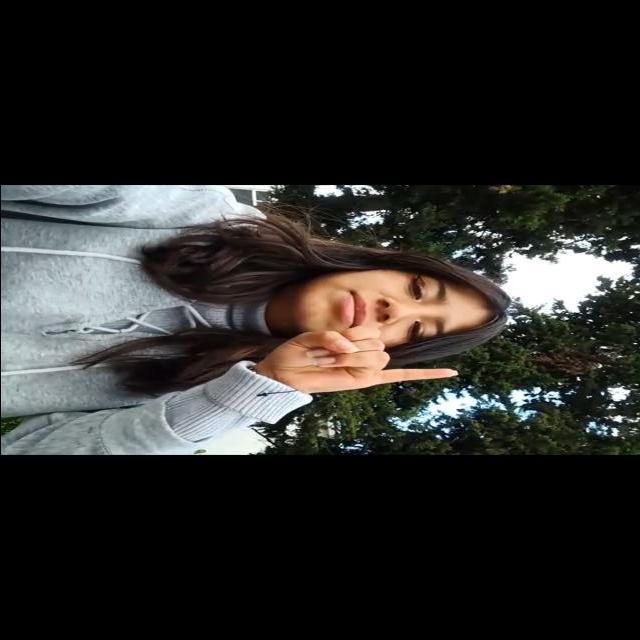I: (258, 322, 462, 396)
